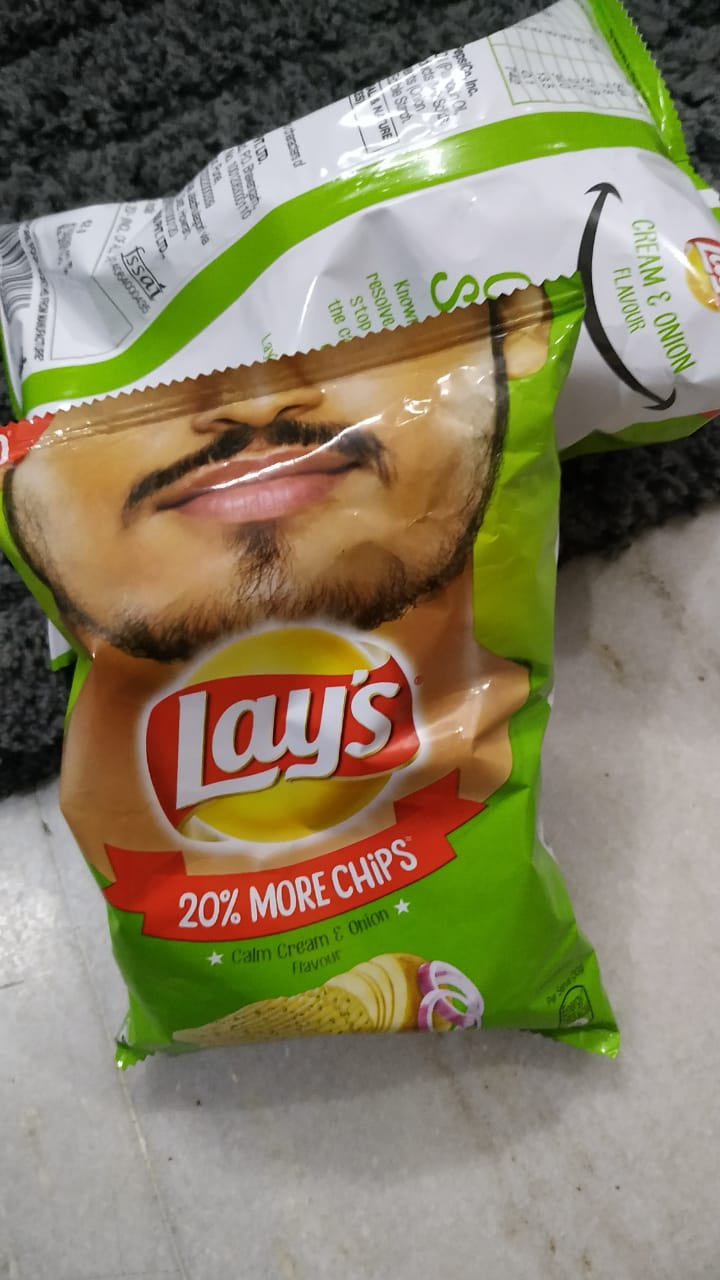lays chips: (1, 262, 639, 1070), (11, 6, 720, 432)
